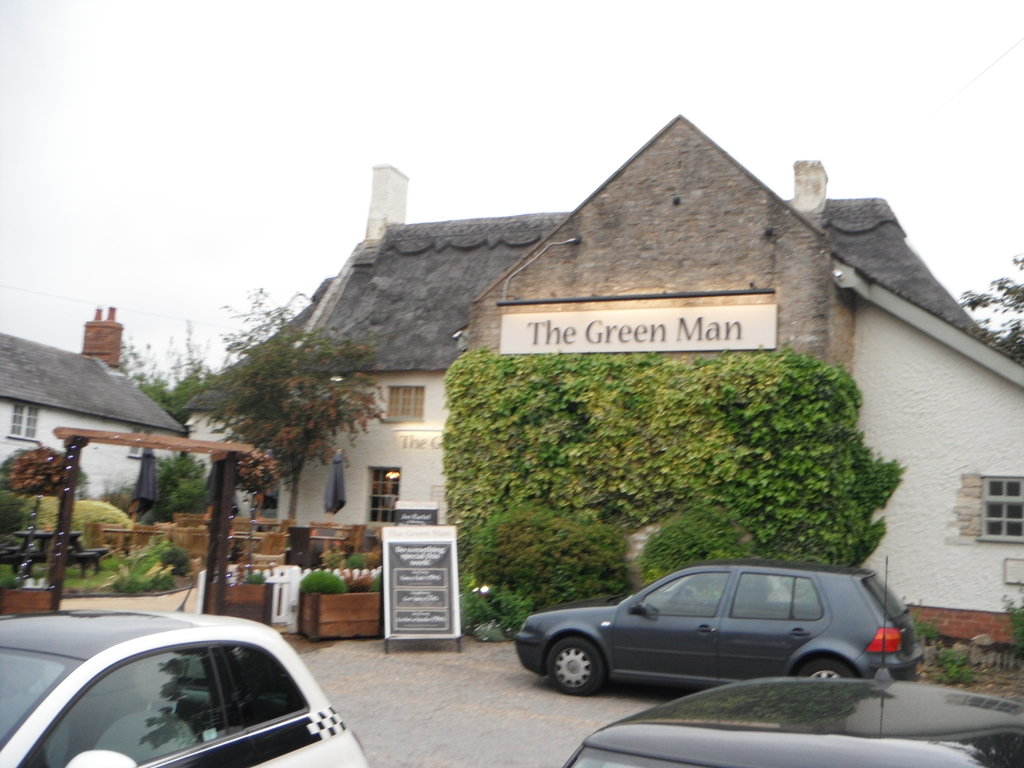Car: (564, 555, 1023, 767), (0, 543, 367, 767), (511, 560, 926, 695), (560, 677, 1023, 767)
